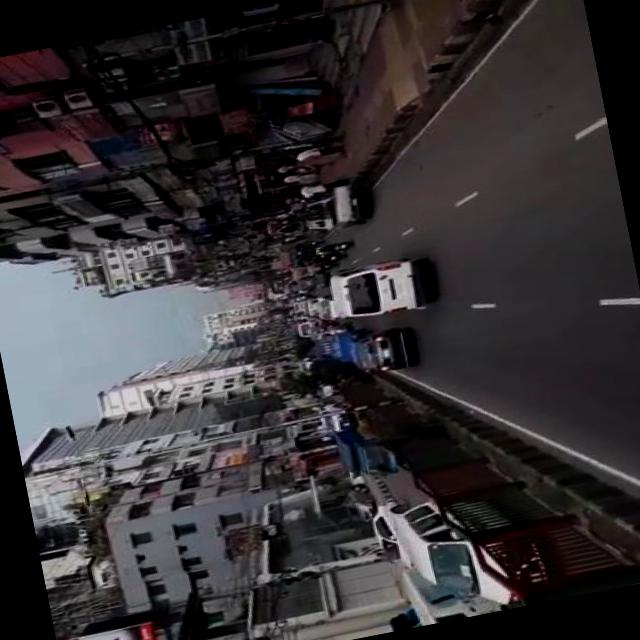car: (345, 323, 412, 378), (363, 497, 411, 561), (310, 292, 340, 322)
motorcycle: (292, 271, 324, 292), (328, 239, 349, 251), (322, 250, 342, 260)
truck: (387, 478, 547, 622), (397, 548, 505, 628), (324, 254, 426, 322), (326, 417, 408, 484), (297, 180, 364, 234), (308, 324, 367, 367)
